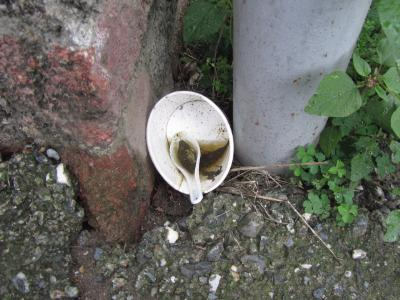bowl: (146, 91, 235, 197)
